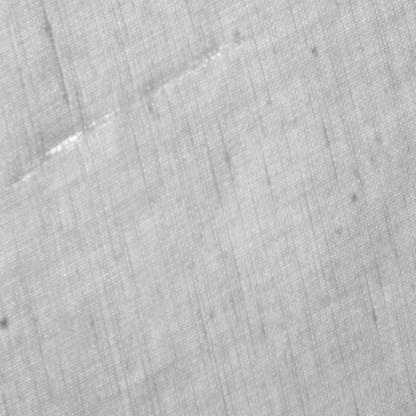thread error: (1, 39, 233, 189)
